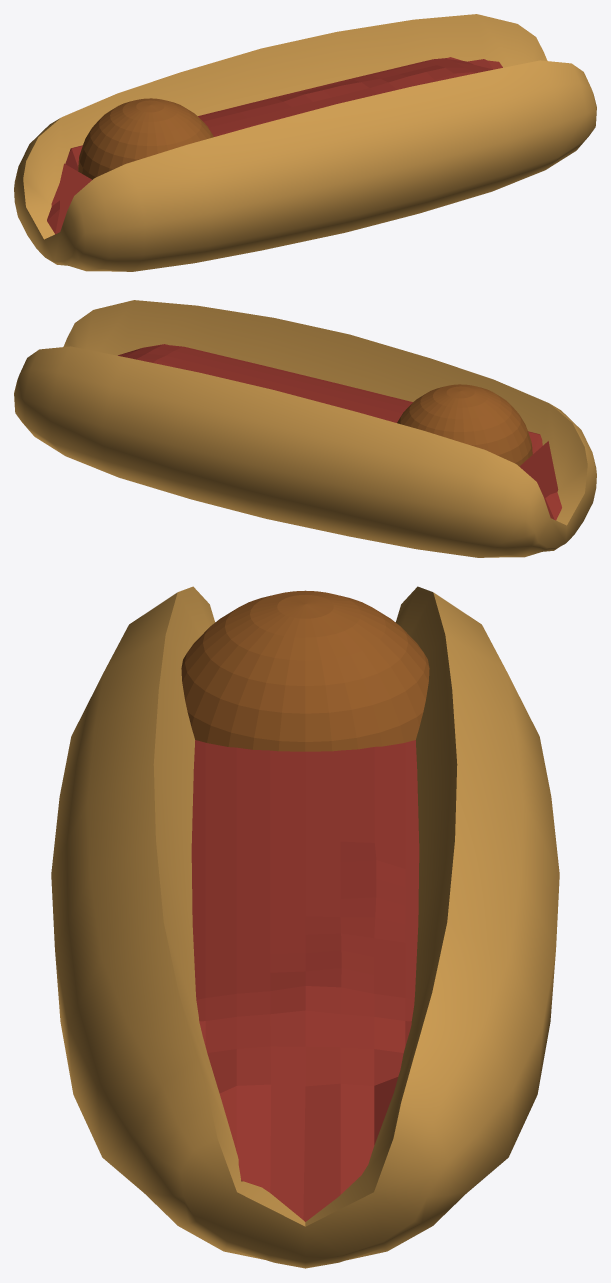
The model's file is 1_3_bun.fbx.
3 views of the same model, one above another, from view 1: azimuth 30°, elevation 25°; view 2: azimuth 150°, elevation 25°; view 3: azimuth 270°, elevation 25° (orthographic). The views are drawn at different scales.
Parts seen in each view (by area): view 1: Hotdog, Cylinder, Sphere.002; view 2: Hotdog, Cylinder, Sphere.002; view 3: Hotdog, Cylinder, Sphere.002.
Boxes of the visible parts, <box> form: Hotdog: <box>14,14,596,271</box>; Cylinder: <box>47,57,502,234</box>; Sphere.002: <box>78,98,213,179</box>; Hotdog: <box>14,300,596,557</box>; Cylinder: <box>118,344,561,520</box>; Sphere.002: <box>397,384,532,466</box>; Hotdog: <box>51,586,559,1268</box>; Cylinder: <box>191,740,419,1221</box>; Sphere.002: <box>181,590,429,751</box>.
Bounding box in the file's own units: 50.47 × 14 × 21.02.
